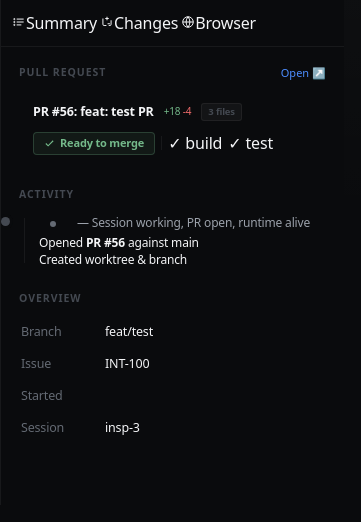
Test: SessionInspector › switches to the Changes view
Click the tab "Changes": click(139, 23) left=100, top=11, right=178, bottom=35
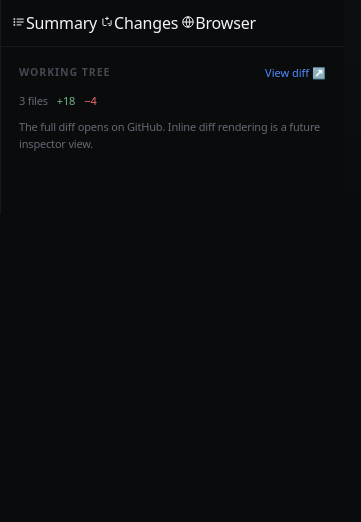
Expected: the text "3 files" is shown, left=19, top=92, right=48, bottom=109
Expected: the text "Working tree" is shown, left=19, top=65, right=110, bottom=81
